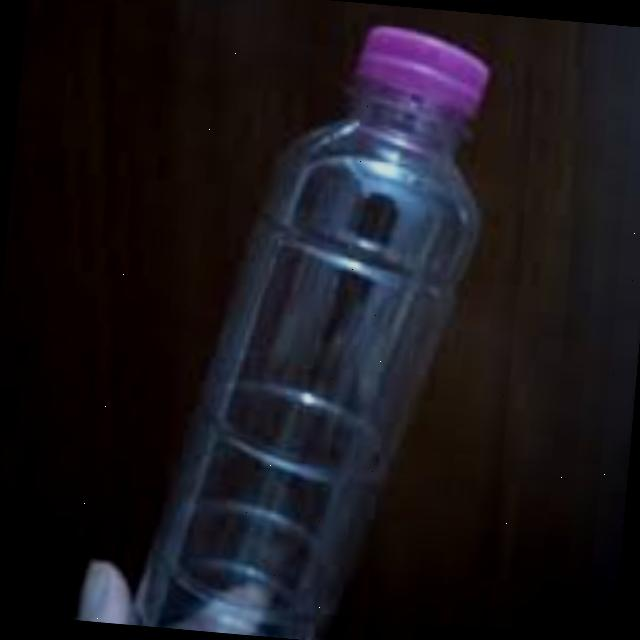trash: (120, 4, 490, 640)
